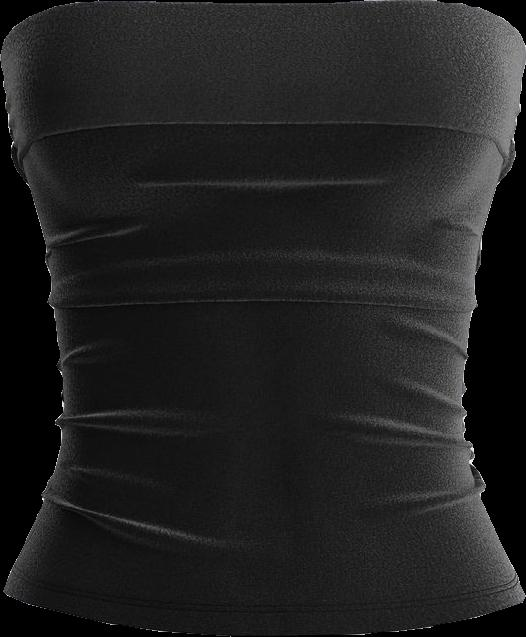Bodice: (1, 1, 525, 635)
Neckline: (0, 0, 525, 60), (13, 118, 513, 170)
Waistline: (1, 588, 525, 636)
